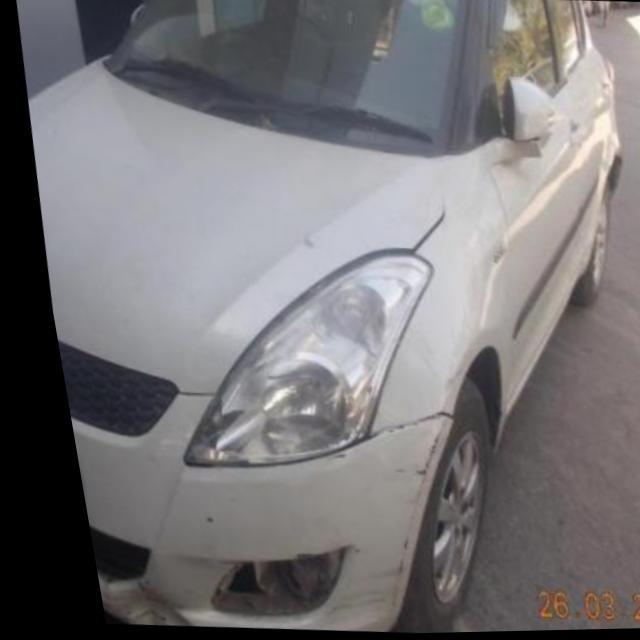dent: (92, 594, 173, 627)
scratch: (405, 426, 432, 487), (371, 530, 398, 588)
